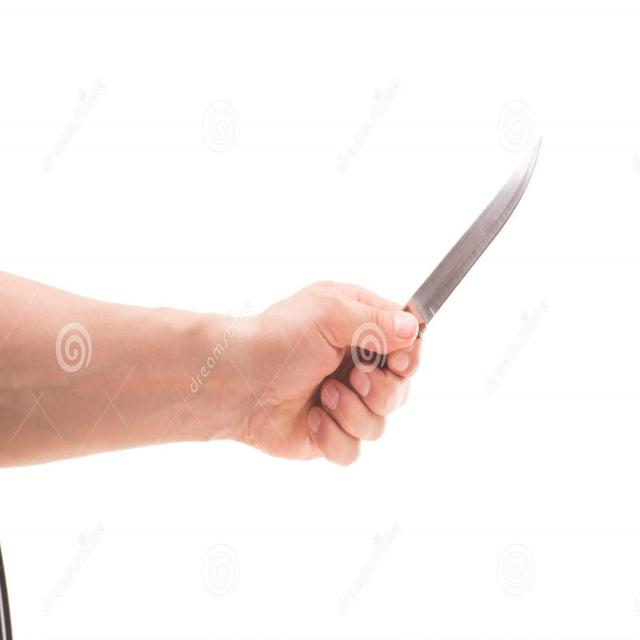knife: (399, 118, 549, 352)
